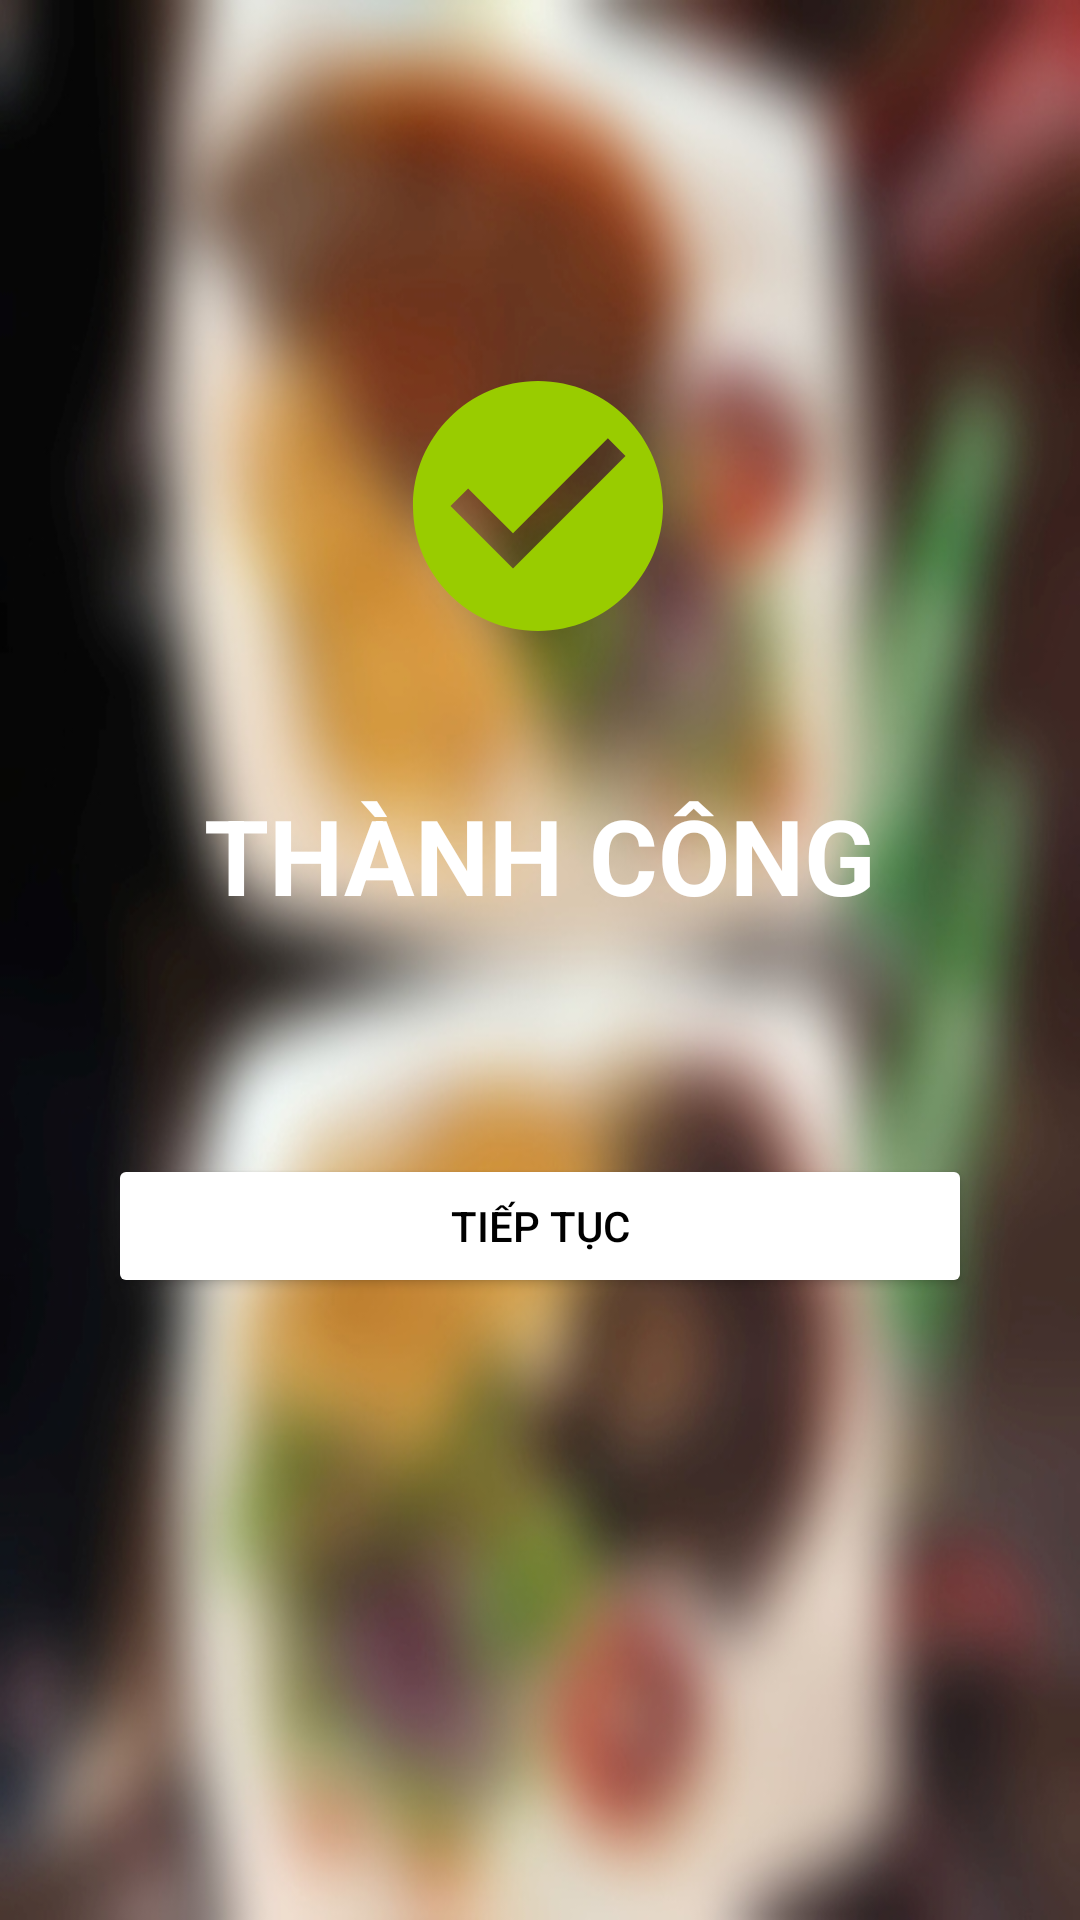

Named icons in this screenshot (1080×1920) and their centers, [x,y]:
check circle: [538,506]
